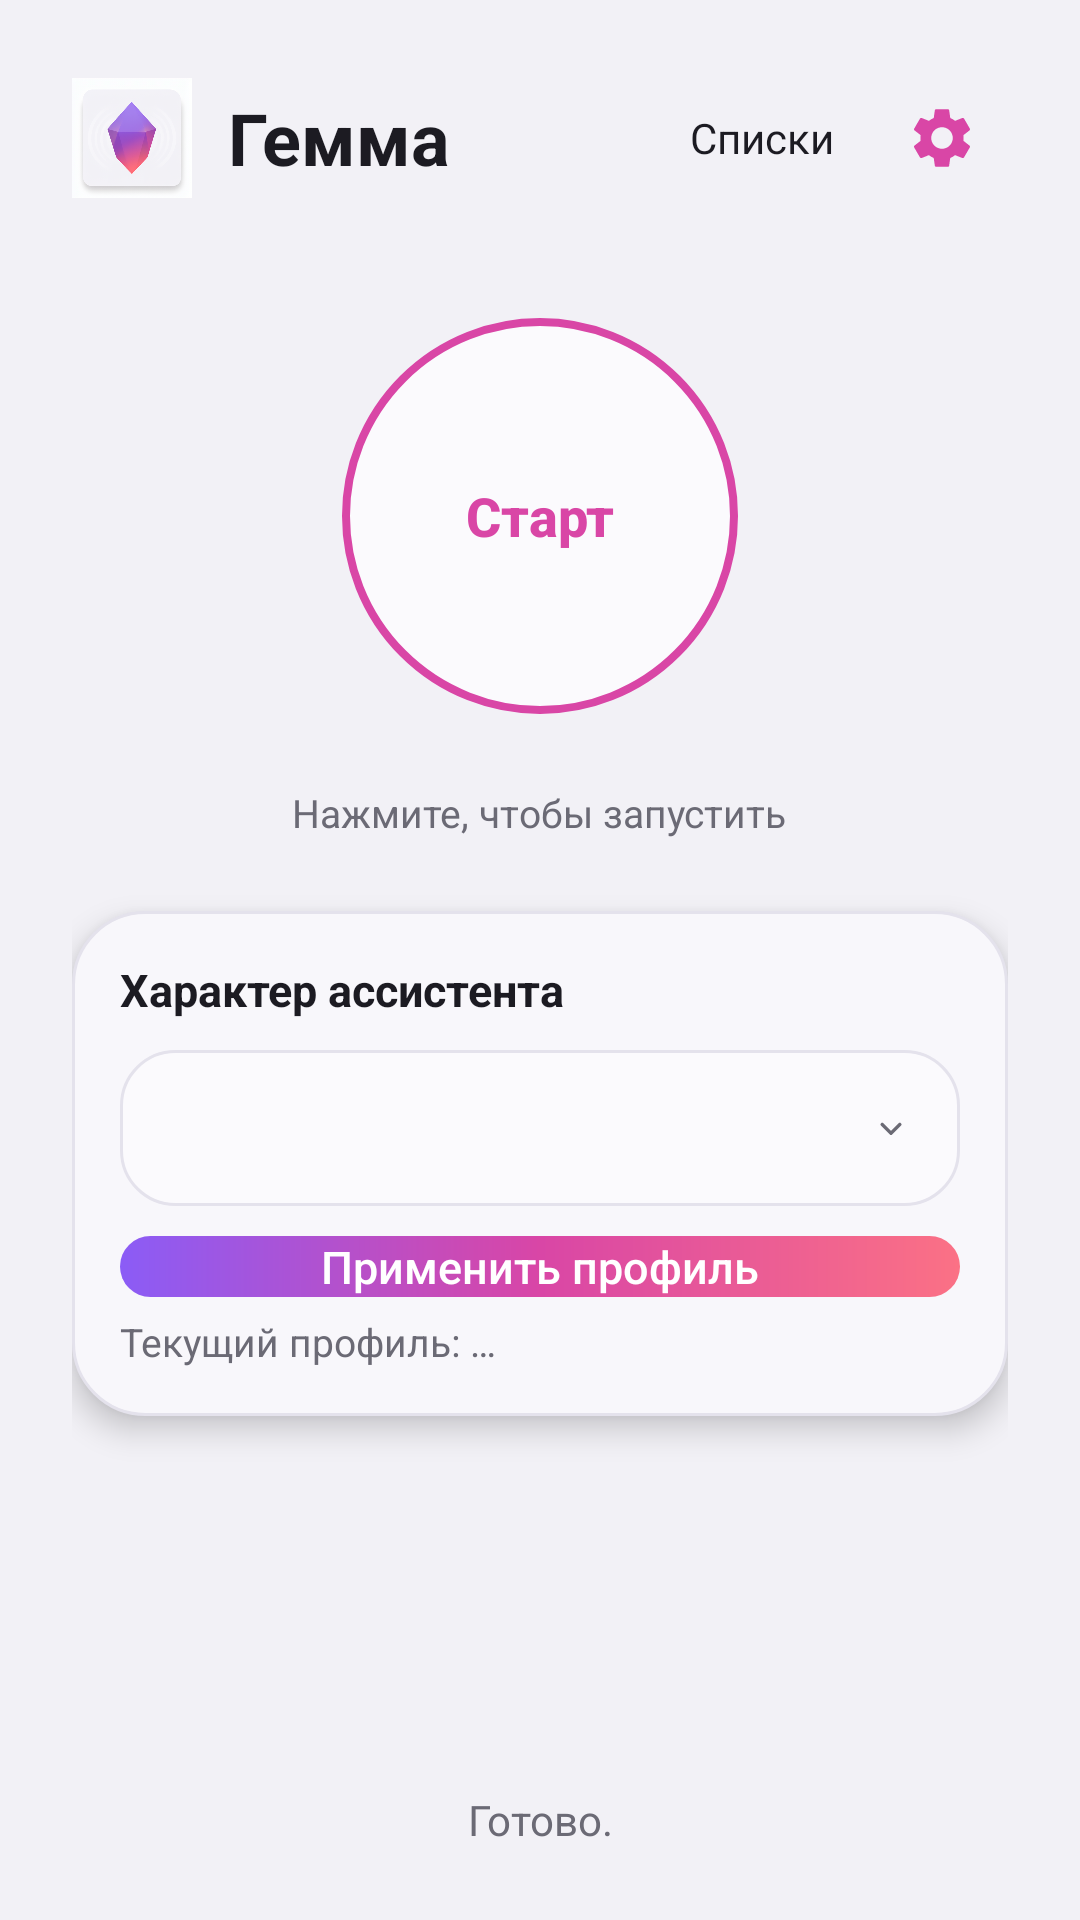

Point at icon controls on the screen. Image size 1080px x 1920px, points as (x,y).
Настройки: (942,138)
